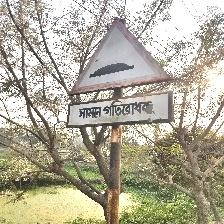Speed-breaker: (66, 17, 176, 129)
